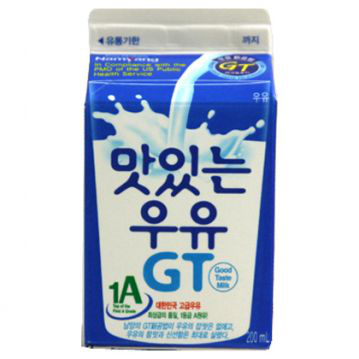milk: (84, 10, 278, 350)
